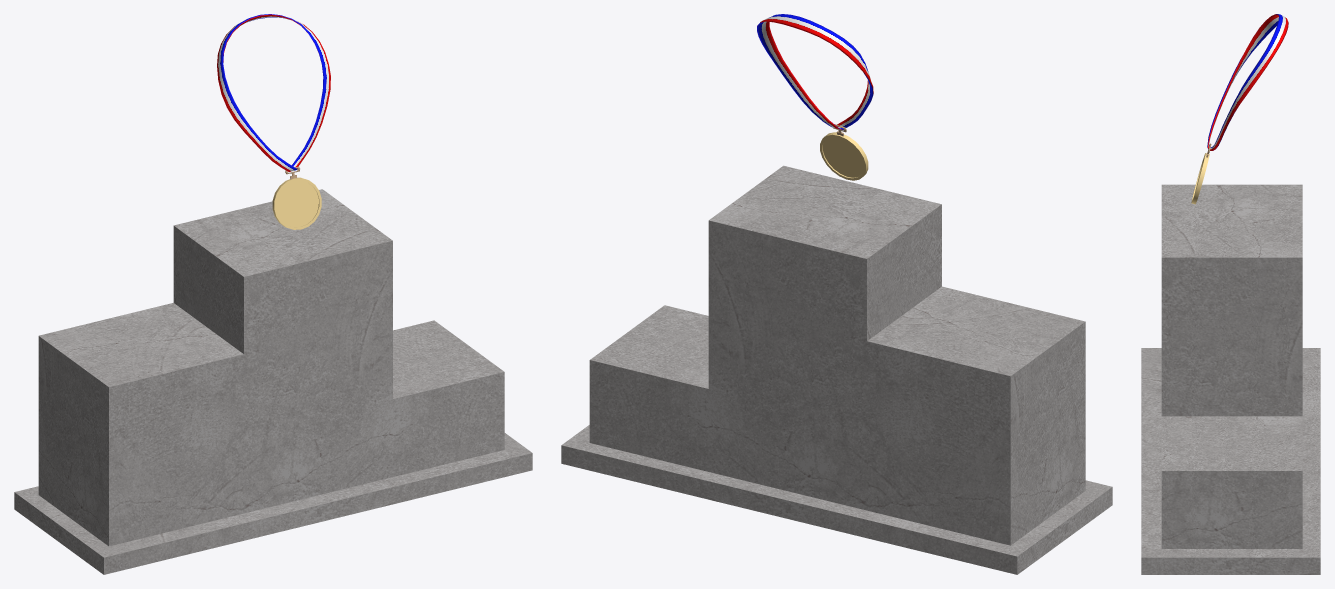
File: podio.glb
The picture shows the model from 3 angles, left to right: view 1: azimuth 30°, elevation 25°; view 2: azimuth 150°, elevation 25°; view 3: azimuth 270°, elevation 25°; orthographic projection. The views are drawn at different scales.
Parts seen in each view (by area): view 1: Podio, GoldMedal; view 2: Podio, GoldMedal; view 3: Podio, GoldMedal.
Part boxes in pixels (x1=…): Podio: x1=14, y1=189, x2=532, y2=574; GoldMedal: x1=217, y1=14, x2=330, y2=229; Podio: x1=561, y1=165, x2=1112, y2=574; GoldMedal: x1=757, y1=14, x2=873, y2=180; Podio: x1=1141, y1=184, x2=1320, y2=574; GoldMedal: x1=1191, y1=14, x2=1288, y2=204.
Size of the model in its own units: 1.14 by 1.15 by 0.4117.
Materials: 2 (2 with a texture image).
